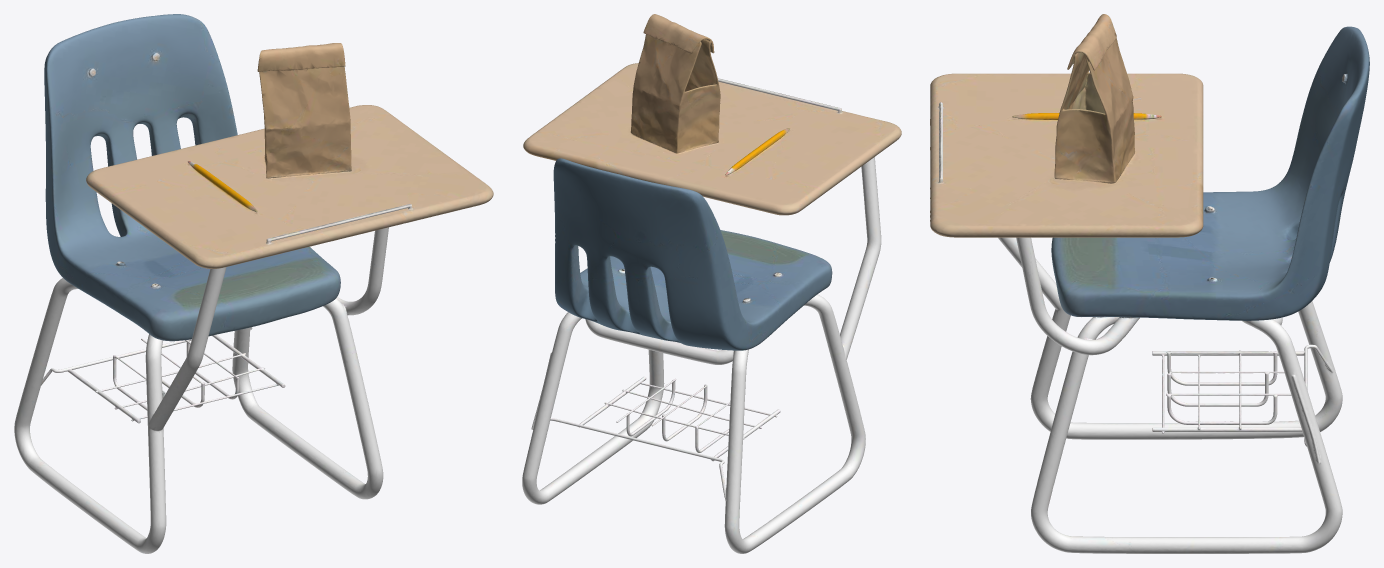
File: desk.glb
3 views of the same model, side by side, from view 1: azimuth 30°, elevation 25°; view 2: azimuth 150°, elevation 25°; view 3: azimuth 270°, elevation 25° (orthographic). The views are drawn at different scales.
Visible parts, largest first — view 1: Mesh_0; view 2: Mesh_0; view 3: Mesh_0.
Boxes of the visible parts, x1=… form: Mesh_0: x1=14, y1=14, x2=493, y2=553; Mesh_0: x1=522, y1=14, x2=901, y2=553; Mesh_0: x1=930, y1=14, x2=1369, y2=553.
Bounding box in the file's own units: 0.0824 × 0.12 × 0.0965.
Materials: 1 (1 with a texture image).
